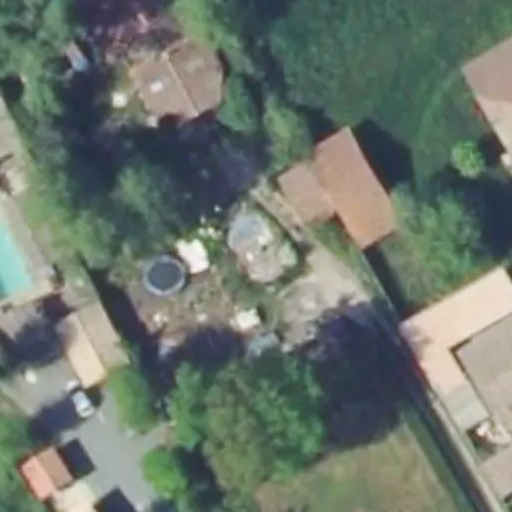pool: (220, 225, 292, 260)
